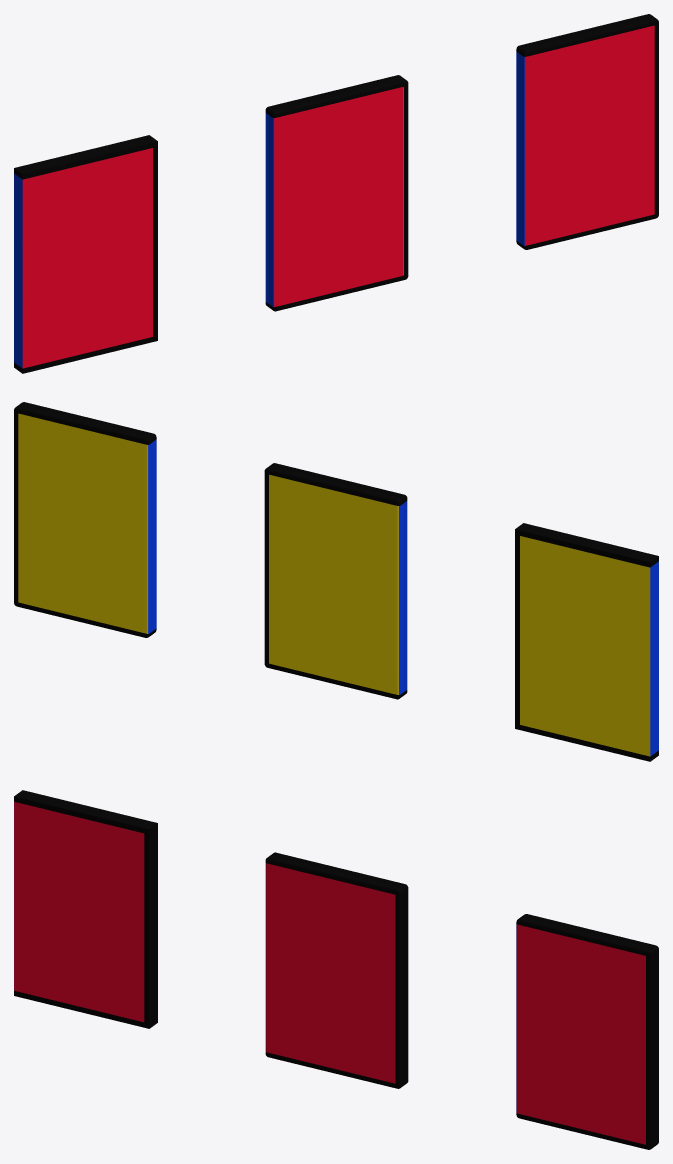
File: game_case.glb
3 renders of one model, top to bottom at view 1: azimuth 30°, elevation 25°; view 2: azimuth 150°, elevation 25°; view 3: azimuth 330°, elevation 25°, orthographic.
Parts seen in each view (by area): view 1: GameCase_LowDetail_1, GameCase_Rounded_Low_0, GameCase_Rounded_High_2; view 2: GameCase_LowDetail_1, GameCase_Rounded_Low_0, GameCase_Rounded_High_2; view 3: GameCase_LowDetail_1, GameCase_Rounded_Low_0, GameCase_Rounded_High_2.
Part boxes in pixels (x1,y1,x2,y2): GameCase_LowDetail_1: (14,135,157,373); GameCase_Rounded_Low_0: (265,75,408,311); GameCase_Rounded_High_2: (516,14,658,249); GameCase_LowDetail_1: (515,523,658,761); GameCase_Rounded_Low_0: (264,463,407,699); GameCase_Rounded_High_2: (14,402,156,637); GameCase_LowDetail_1: (14,790,157,1028); GameCase_Rounded_Low_0: (265,852,408,1088); GameCase_Rounded_High_2: (516,914,658,1149).
Bounding box in the file's own units: 0.635 × 0.19 × 0.015.
Materials: 3 (2 with a texture image).
